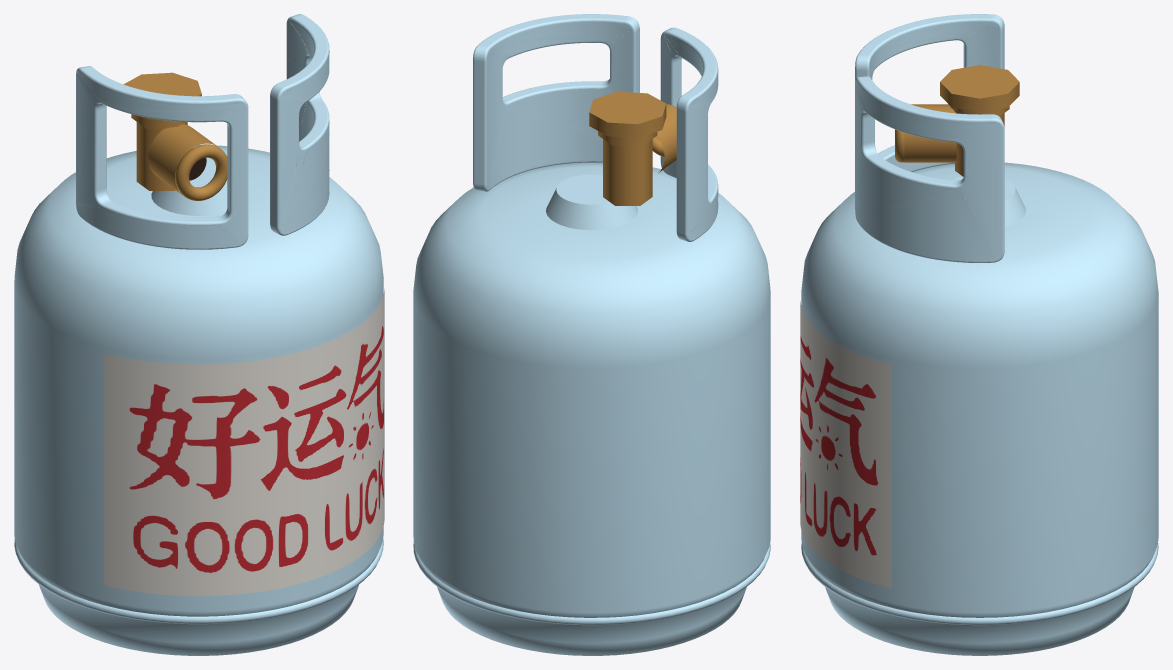
Rendered from good-luck.glb.
3 renders of one model, left to right at view 1: azimuth 30°, elevation 25°; view 2: azimuth 150°, elevation 25°; view 3: azimuth 270°, elevation 25°, orthographic. The views are drawn at different scales.
Parts seen in each view (by area): view 1: floating-sculpted-good-luck, curved-good-luck-label, open-rear-protective-collar, slotted-front-protective-collar, brass-outlet-rim; view 2: floating-sculpted-good-luck, slotted-front-protective-collar, open-rear-protective-collar; view 3: floating-sculpted-good-luck, curved-good-luck-label, slotted-front-protective-collar, open-rear-protective-collar.
Part boxes in pixels (box(x1,y1,x2,y2)): floating-sculpted-good-luck: box(14, 72, 383, 655); curved-good-luck-label: box(104, 289, 384, 596); open-rear-protective-collar: box(76, 66, 248, 249); slotted-front-protective-collar: box(270, 14, 329, 235); brass-outlet-rim: box(175, 144, 227, 200); floating-sculpted-good-luck: box(413, 91, 770, 655); slotted-front-protective-collar: box(473, 14, 639, 191); open-rear-protective-collar: box(660, 27, 718, 241); floating-sculpted-good-luck: box(801, 65, 1158, 655); curved-good-luck-label: box(800, 301, 891, 588); slotted-front-protective-collar: box(855, 76, 1004, 262); open-rear-protective-collar: box(855, 14, 1004, 171).
Bounding box in the file's own units: 1.3 × 2.14 × 1.3.
5 materials, 1 textured.
